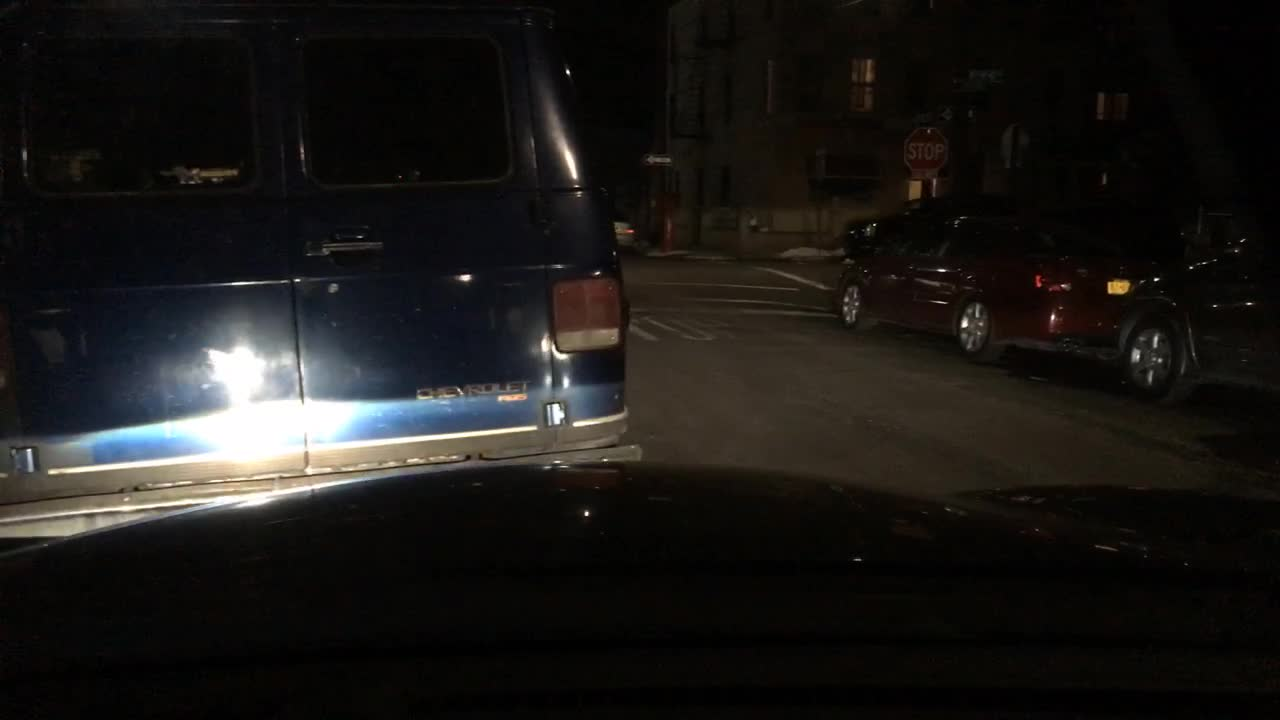car: (0, 2, 642, 547), (834, 205, 1158, 359), (1112, 216, 1279, 412), (844, 198, 957, 256), (612, 221, 643, 253)
traffic sign: (902, 116, 953, 178), (638, 151, 682, 171)
